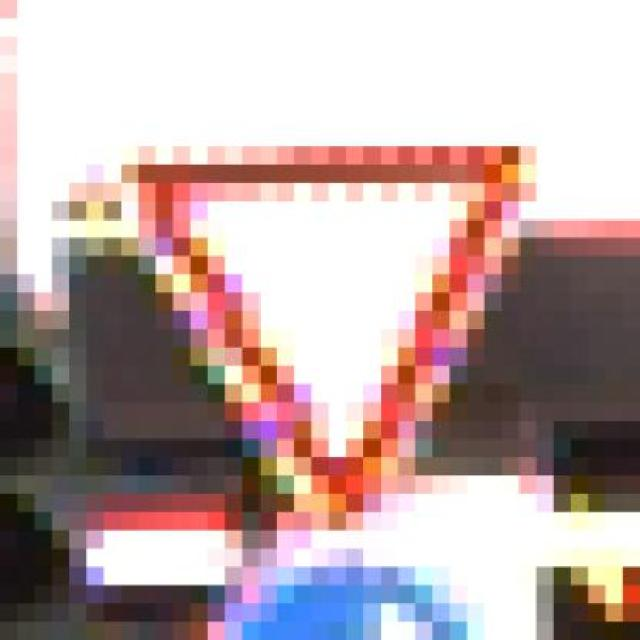Give Way: (104, 110, 536, 548)
